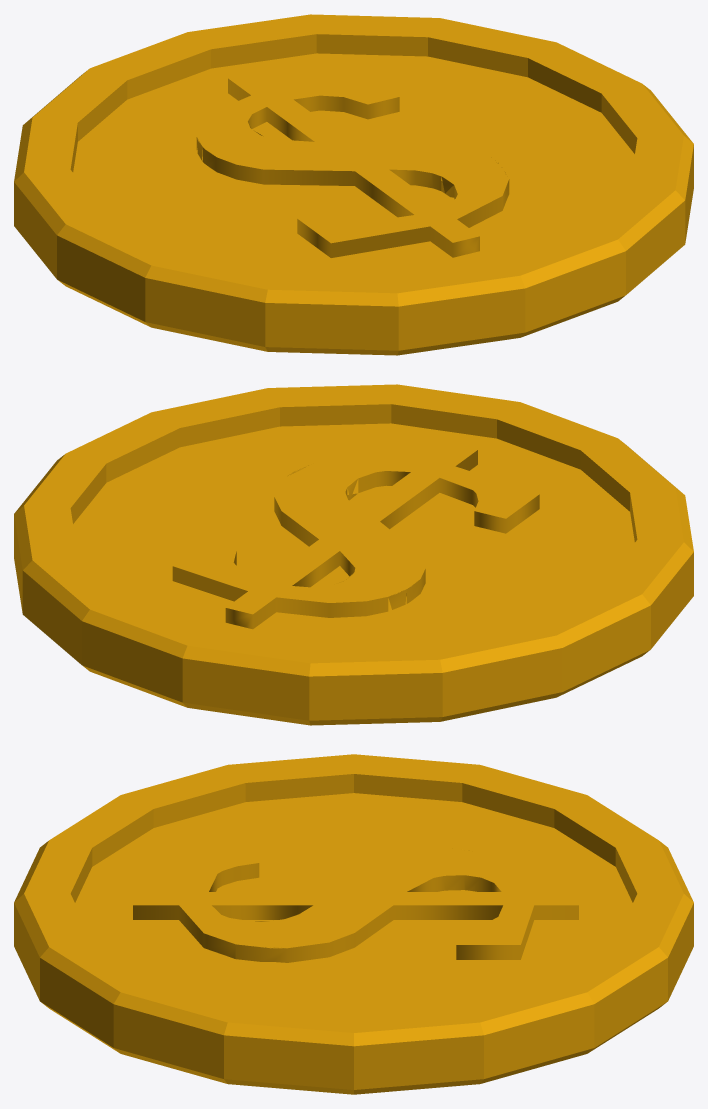
The model's file is coin_new.glb.
3 views of the same model, one above another, from view 1: azimuth 30°, elevation 25°; view 2: azimuth 150°, elevation 25°; view 3: azimuth 270°, elevation 25° (orthographic).
Parts seen in each view (by area): view 1: Cylinder; view 2: Cylinder; view 3: Cylinder.
Part boxes in pixels (bbox=[...]): Cylinder: bbox=[14, 14, 693, 355]; Cylinder: bbox=[14, 384, 693, 725]; Cylinder: bbox=[14, 754, 693, 1094].
Bounding box in the file's own units: 2 × 0.2 × 2.
